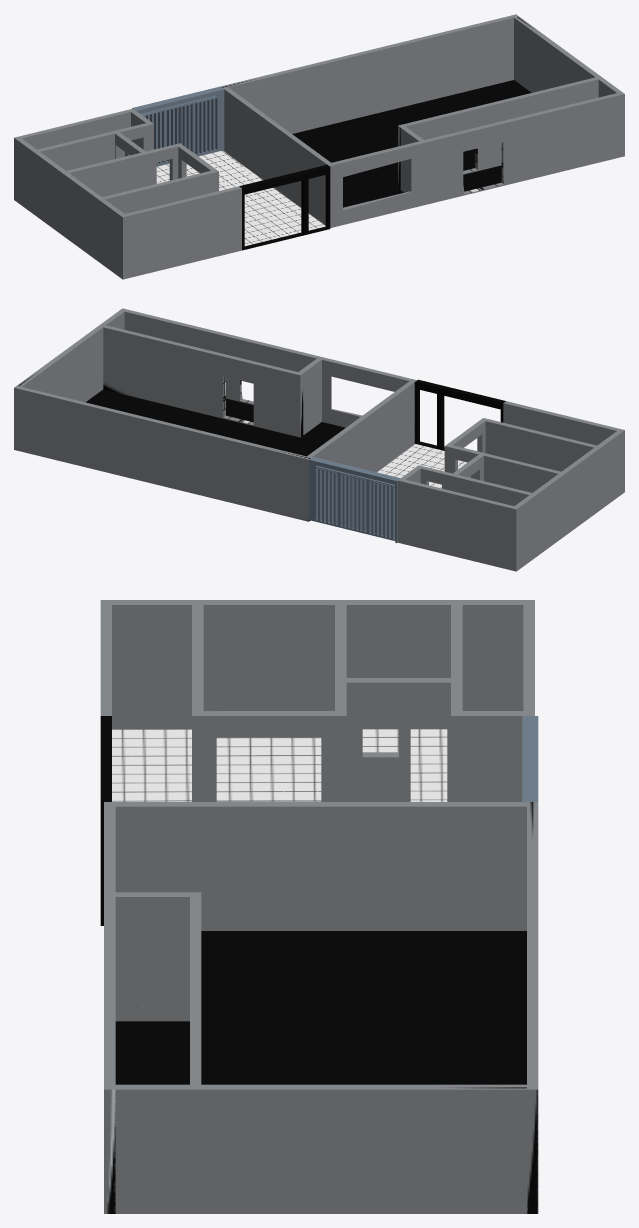
Rendered from GRNDFLR_ELEM.fbx.
3 views of the same model, one above another, from view 1: azimuth 30°, elevation 25°; view 2: azimuth 150°, elevation 25°; view 3: azimuth 270°, elevation 25° (orthographic). The views are drawn at different scales.
Visible parts, largest first — view 1: Wall.004, Wall.010, Floor, Wall.006, Floor.001, Outside Entrance.001, Outside Entrance, Floor.005; view 2: Wall.004, Wall.010, Outside Entrance.001, Wall.006, Floor, Outside Entrance, Floor.001, Floor.005; view 3: Wall.004, Floor, Wall.006, Wall.010, Floor.002, Floor.001, Floor.005, Floor.003, Outside Entrance, Outside Entrance.001.
Part boxes in pixels (x1,y1,x2,y2): Wall.004: (14, 14, 624, 279); Wall.010: (37, 111, 218, 213); Floor: (292, 80, 531, 207); Wall.006: (223, 87, 330, 225); Floor.001: (156, 150, 325, 246); Outside Entrance.001: (132, 86, 224, 166); Outside Entrance: (239, 164, 330, 250); Floor.005: (463, 165, 501, 191); Wall.004: (14, 308, 624, 571); Wall.010: (401, 418, 596, 505); Outside Entrance.001: (309, 457, 400, 543); Wall.006: (307, 381, 414, 472); Floor: (85, 389, 345, 456); Outside Entrance: (415, 379, 505, 450); Floor.001: (377, 444, 467, 488); Floor.005: (226, 398, 253, 422); Wall.004: (100, 600, 538, 1213); Floor: (201, 931, 526, 1084); Wall.006: (115, 802, 526, 930); Wall.010: (192, 605, 523, 801); Floor.002: (216, 737, 321, 801); Floor.001: (112, 729, 191, 801); Floor.005: (115, 1021, 189, 1084); Floor.003: (362, 729, 447, 801); Outside Entrance: (100, 716, 111, 925); Outside Entrance.001: (522, 716, 538, 801).
Bounding box in the file's own units: 2535 × 300 × 958.
Materials: 1 (1 with a texture image).
